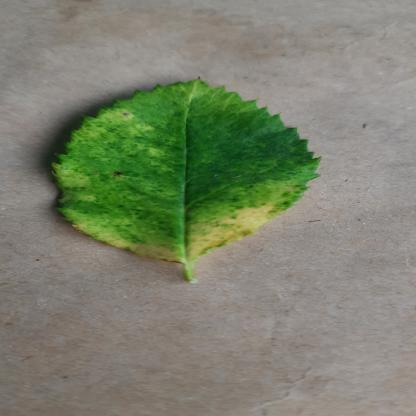black-spot: (42, 76, 332, 262)
